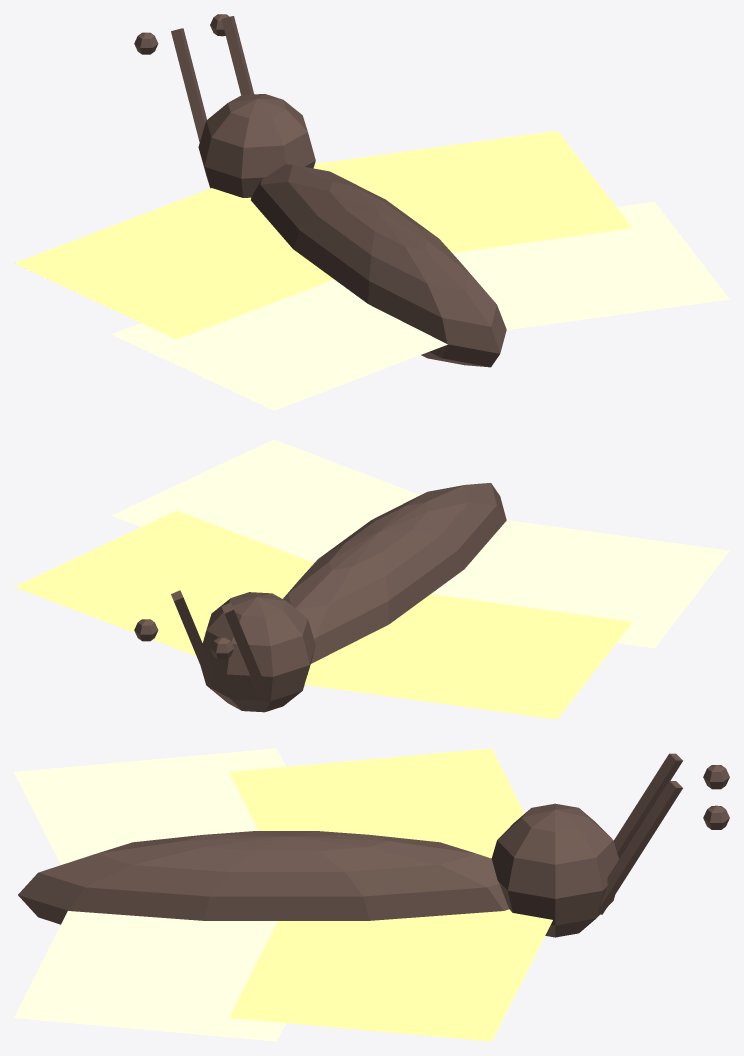
Rendered from butterfly.glb.
3 renders of one model, top to bottom at view 1: azimuth 30°, elevation 25°; view 2: azimuth 150°, elevation 25°; view 3: azimuth 270°, elevation 25°, orthographic. The views are drawn at different scales.
Parts seen in each view (by area): view 1: butterfly; view 2: butterfly; view 3: butterfly.
Boxes of the visible parts, left/top/right/bottom form: butterfly: left=14, top=14, right=729, bottom=410; butterfly: left=14, top=439, right=729, bottom=719; butterfly: left=14, top=748, right=729, bottom=1041.
Size of the model in its own units: 0.2582 by 0.0765 by 0.2664.
